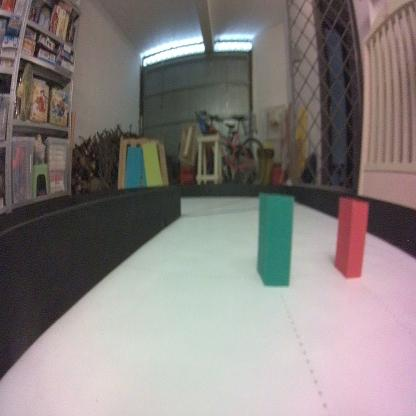green: (256, 191, 295, 292)
red: (334, 194, 366, 280)
